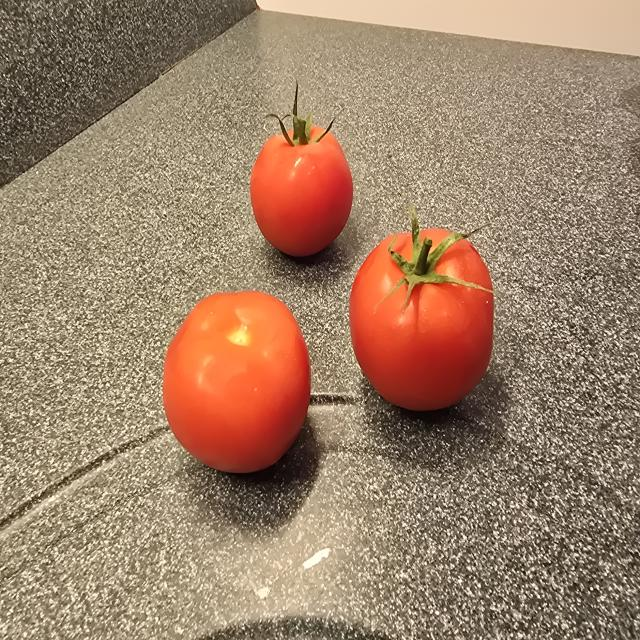Tomato: (349, 206, 493, 410), (163, 291, 311, 473), (250, 81, 353, 257)
